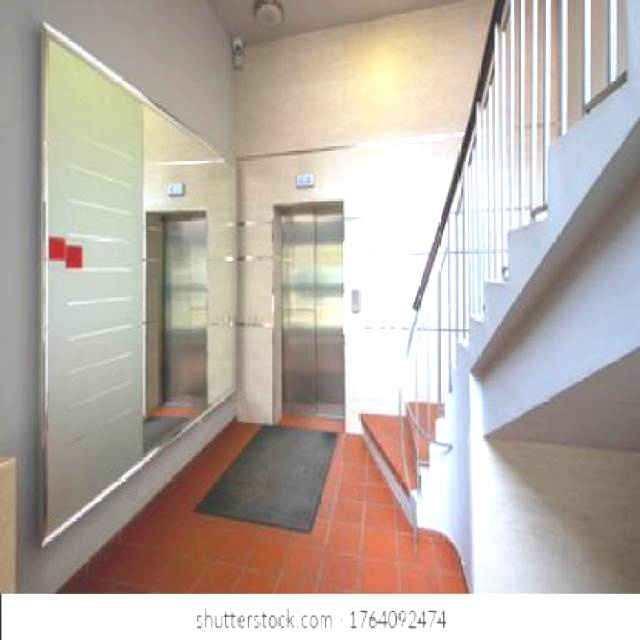stair: (356, 88, 595, 514)
